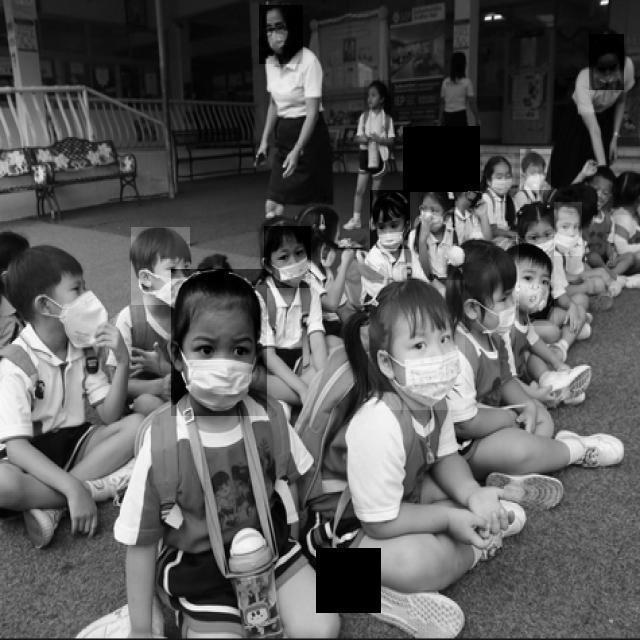hairnet: (589, 35, 624, 91), (556, 228, 581, 252)
mask: (368, 342, 465, 410), (174, 344, 263, 412), (31, 285, 106, 348), (458, 298, 518, 338), (507, 278, 553, 326), (131, 269, 190, 306), (259, 22, 301, 64), (264, 254, 311, 288), (370, 225, 410, 249), (420, 205, 456, 229), (519, 169, 550, 192), (487, 177, 520, 194)
no_gloves: (173, 266, 263, 341), (364, 277, 444, 352), (0, 238, 83, 303), (455, 241, 518, 299), (130, 226, 193, 276), (260, 224, 311, 261), (507, 239, 555, 275), (259, 0, 296, 26), (482, 153, 518, 173)
no_hairnet: (364, 92, 384, 111)
